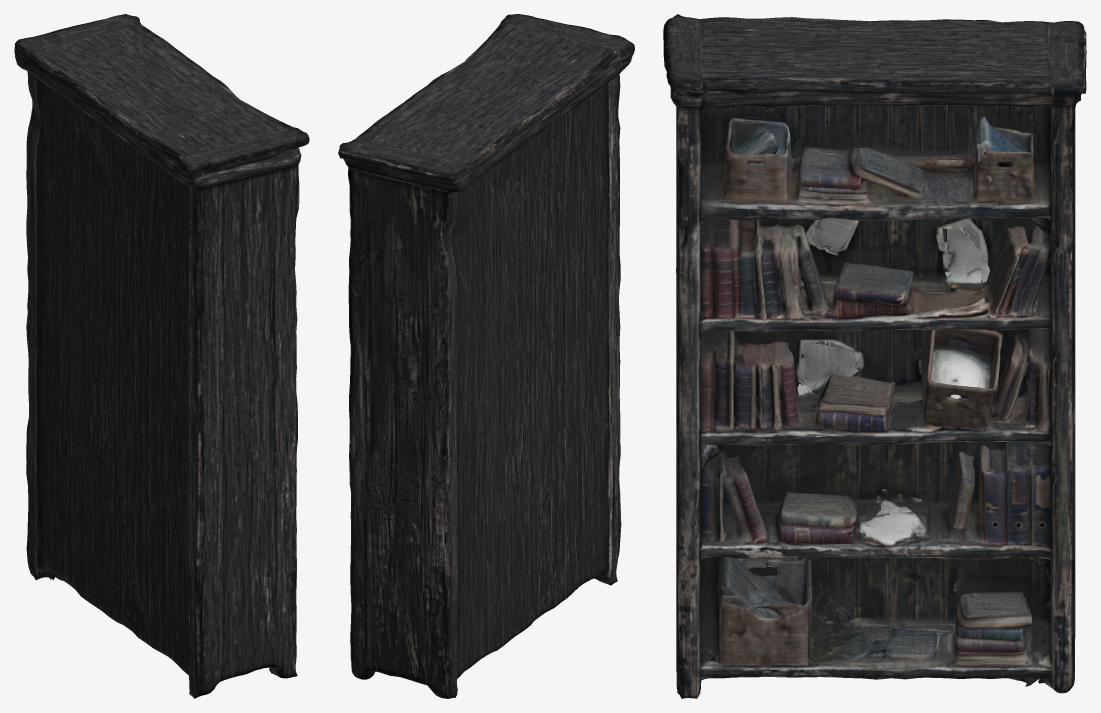
File: 木质书架3d模型.fbx
The picture shows the model from 3 angles, left to right: view 1: azimuth 30°, elevation 25°; view 2: azimuth 150°, elevation 25°; view 3: azimuth 270°, elevation 25°; orthographic projection. The views are drawn at different scales.
Visible parts, largest first — view 1: tripo_node_35e467a3; view 2: tripo_node_35e467a3; view 3: tripo_node_35e467a3.
Boxes of the visible parts, box(x1,y1,x2,y2) form: tripo_node_35e467a3: box(14, 14, 309, 698); tripo_node_35e467a3: box(338, 14, 634, 698); tripo_node_35e467a3: box(663, 14, 1086, 698).
Size of the model in its own units: 24.2 by 99.97 by 61.62.
